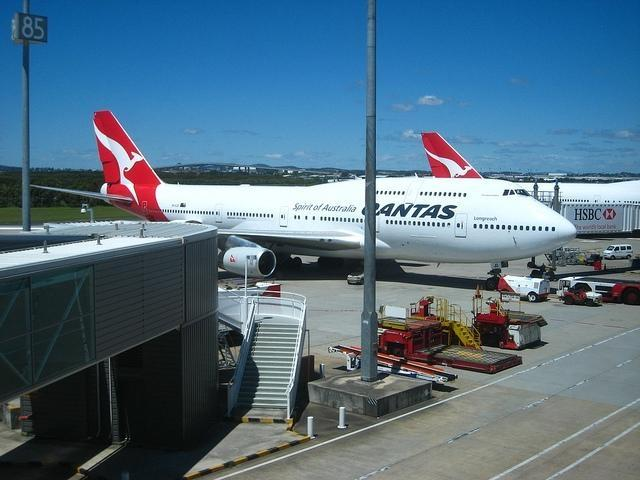car: (555, 283, 603, 310), (603, 244, 634, 260)
truck: (557, 276, 640, 306), (498, 272, 550, 302), (348, 268, 364, 284)
